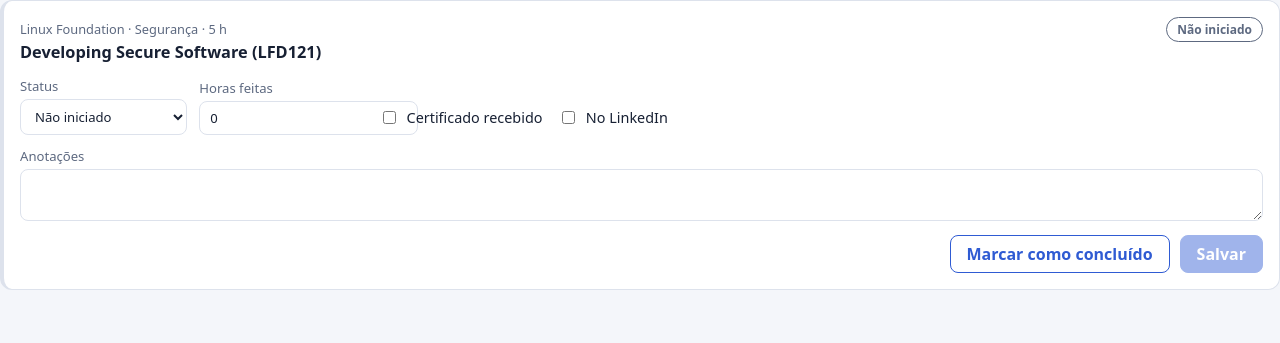
Test case: CourseCard › shows the server error message
Click the button "Marcar como concluído" at (1060, 254), box top-left (950, 235), bottom-right (1170, 273)
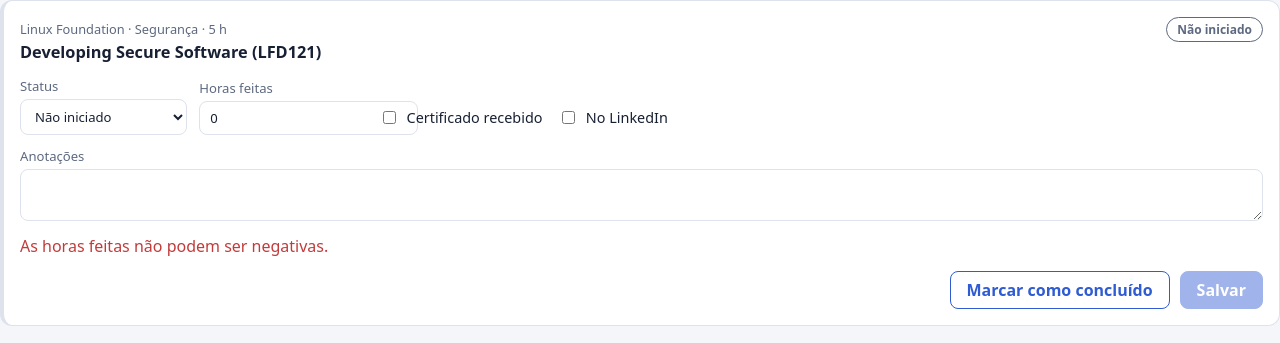
Expected: the message reads "As horas feitas não podem ser negativas.", top-left (20, 235), bottom-right (328, 257)
